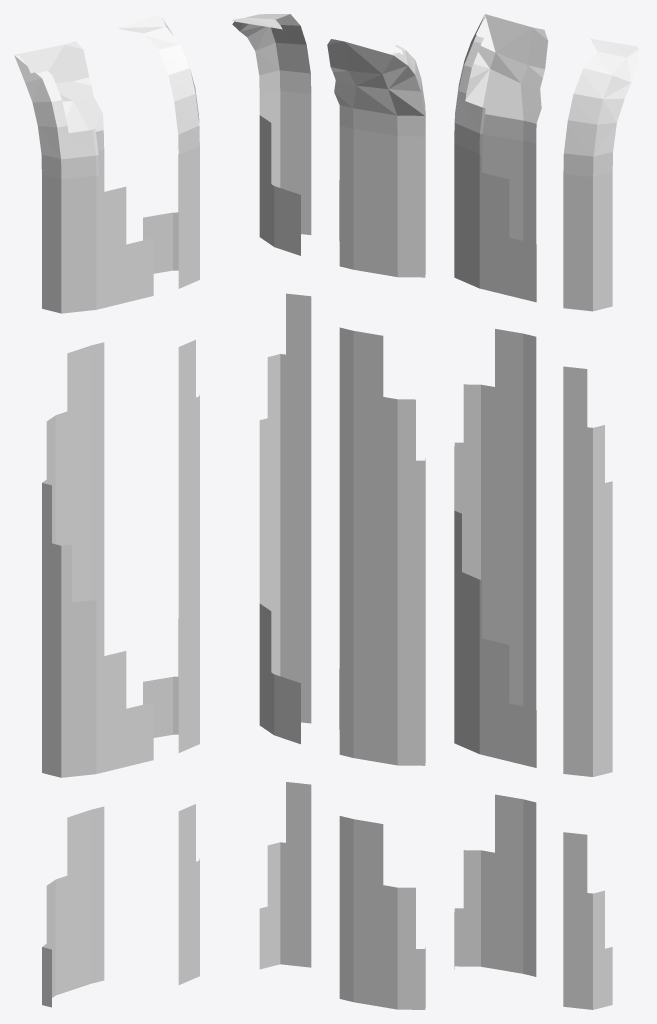
The model's file is ForestHomePlanetIndirect.dae.
The picture shows the model from 3 angles, left to right: view 1: azimuth 30°, elevation 25°; view 2: azimuth 150°, elevation 25°; view 3: azimuth 330°, elevation 25°; orthographic projection. The views are drawn at different scales.
Visible parts, largest first — view 1: m0; view 2: m0; view 3: m0.
Part boxes in pixels (x1,y1,x2,y2): m0: (14,16,199,1007); m0: (232,14,425,1009); m0: (454,14,638,1009).
Bounding box in the file's own units: 778 × 4370 × 420.
Materials: 1 (1 with a texture image).
